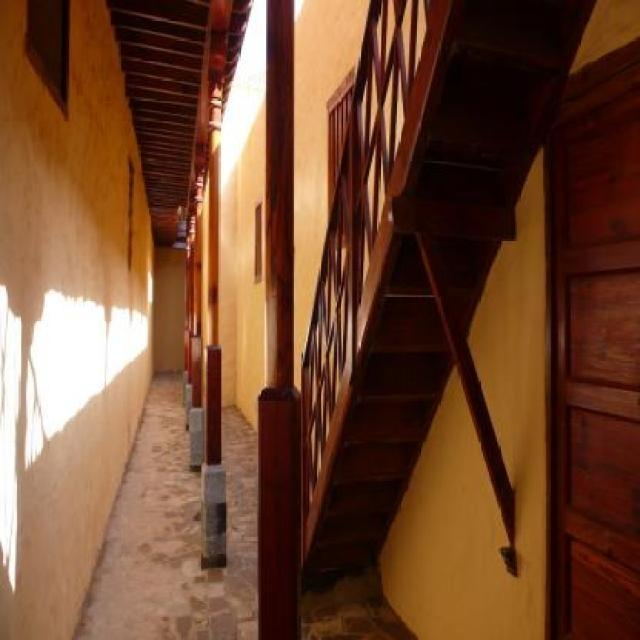stair: (295, 0, 448, 580)
